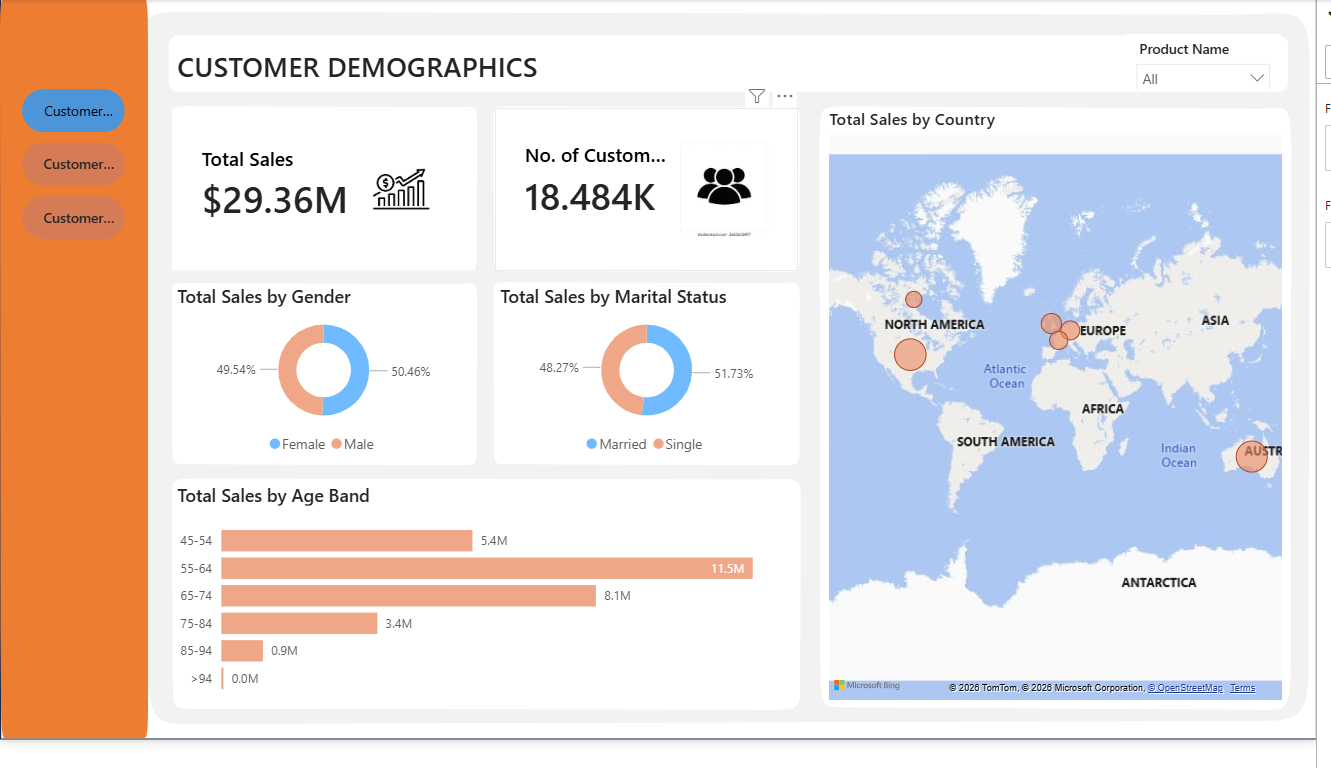

This screenshot's page, from the dashboard's own definition file:
{"tool":"powerbi","page":{"name":"Customer Demographics","canvas":[1280,720],"ordinal":0},"visuals":[{"type":"cardVisual","fields":{"Data":["Sum(FactInternetSales.SalesAmount)"]},"box":[166.8,105.4,295,158],"z":0},{"type":"cardVisual","fields":{"Data":["Count(FactInternetSales.CustomerKey)"]},"box":[481.2,105.4,295,158],"z":1000},{"type":"donutChart","fields":{"Y":["Sum(FactInternetSales.SalesAmount)"],"Category":["DimCustomer.Gender"]},"box":[166.8,275.7,295,175.6],"z":2000},{"type":"donutChart","fields":{"Y":["Sum(FactInternetSales.SalesAmount)"],"Category":["DimCustomer.MaritalStatus"]},"box":[481.2,275.7,295,175.6],"z":3000},{"type":"clusteredBarChart","title":"Total Sales by Age Band","fields":{"Y":["Sum(FactInternetSales.SalesAmount)"],"Category":["Age Sort.Age Band"]},"box":[166.8,468.9,609.4,217.8],"z":4000},{"type":"map","fields":{"Category":["DimGeography.Country"],"Size":["Sum(FactInternetSales.SalesAmount)"]},"box":[801.7,105.4,449.6,581.3],"z":6000},{"type":"textbox","box":[166.8,40.4,389.9,46.5],"z":7000},{"type":"slicer","fields":{"Values":["DimProduct.Product Name"]},"box":[1094.9,33.4,150.1,53.6],"z":8000},{"type":"pageNavigator","box":[21.4,86.6,100.2,148.8],"z":10000}]}

Visuals, with their boxes on the page's 1280x720 design canvas (x1, y1, x2, y2). These are canvas units, not pixel positions in the 1331x768 screenshot, which may show the page scaled, cropped or inside an application window:
cardVisual - Sum(FactInternetSales.SalesAmount): crop(167, 105, 462, 263)
cardVisual - Count(FactInternetSales.CustomerKey): crop(481, 105, 776, 263)
donutChart - Sum(FactInternetSales.SalesAmount) x DimCustomer.Gender: crop(167, 276, 462, 451)
donutChart - Sum(FactInternetSales.SalesAmount) x DimCustomer.MaritalStatus: crop(481, 276, 776, 451)
"Total Sales by Age Band" clusteredBarChart: crop(167, 469, 776, 687)
map - DimGeography.Country x Sum(FactInternetSales.SalesAmount): crop(802, 105, 1251, 687)
textbox: crop(167, 40, 557, 87)
slicer - DimProduct.Product Name: crop(1095, 33, 1245, 87)
pageNavigator: crop(21, 87, 122, 235)
